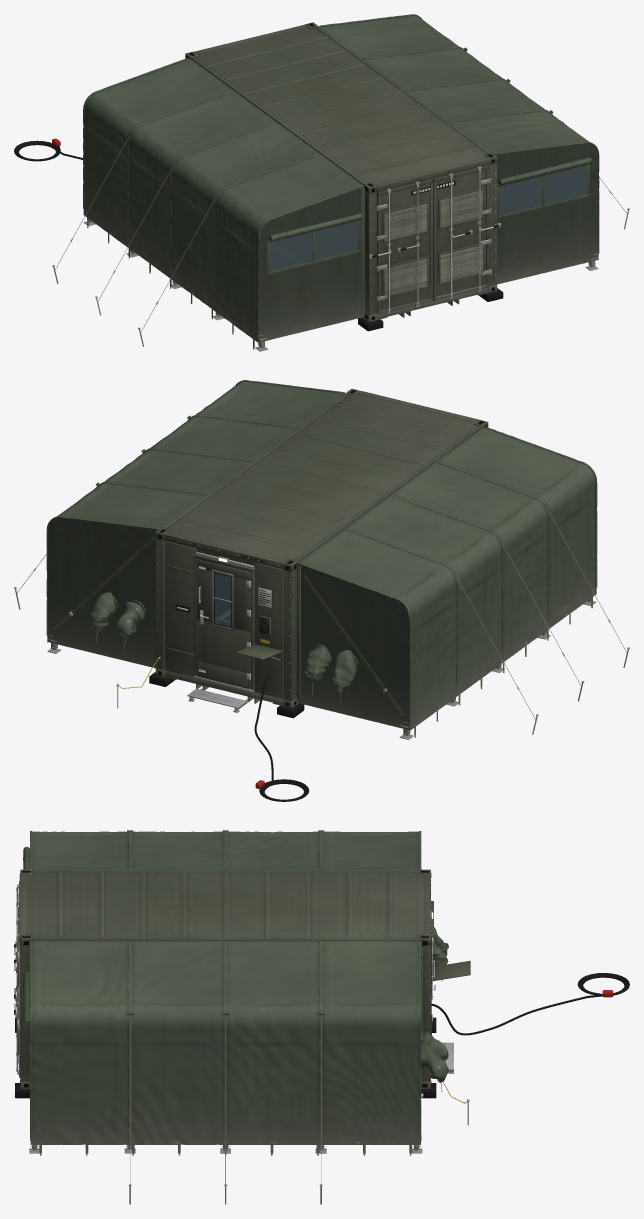
File: mecc-ar.glb
3 views of the same model, one above another, from view 1: azimuth 30°, elevation 25°; view 2: azimuth 150°, elevation 25°; view 3: azimuth 270°, elevation 25° (orthographic). The views are drawn at different scales.
Parts seen in each view (by area): view 1: MECC_expansion_L, MECC_core, MECC_expansion_R, MECC_site_kit; view 2: MECC_expansion_L, MECC_core, MECC_expansion_R, MECC_site_kit; view 3: MECC_expansion_R, MECC_core, MECC_expansion_L, MECC_site_kit.
Part boxes in pixels (x1=…): MECC_expansion_L: x1=83, y1=58, x2=364, y2=351; MECC_core: x1=185, y1=22, x2=503, y2=331; MECC_expansion_R: x1=319, y1=14, x2=599, y2=284; MECC_site_kit: x1=14, y1=47, x2=629, y2=346; MECC_expansion_L: x1=296, y1=426, x2=597, y2=739; MECC_core: x1=149, y1=389, x2=488, y2=718; MECC_expansion_R: x1=46, y1=380, x2=345, y2=668; MECC_site_kit: x1=14, y1=415, x2=629, y2=801; MECC_expansion_R: x1=23, y1=940, x2=448, y2=1155; MECC_core: x1=14, y1=869, x2=470, y2=1098; MECC_expansion_L: x1=23, y1=830, x2=448, y2=981; MECC_site_kit: x1=127, y1=830, x2=629, y2=1204.
Bounding box in the file's own units: 9.34 × 2.86 × 9.09.
Materials: 23 (7 with a texture image).
